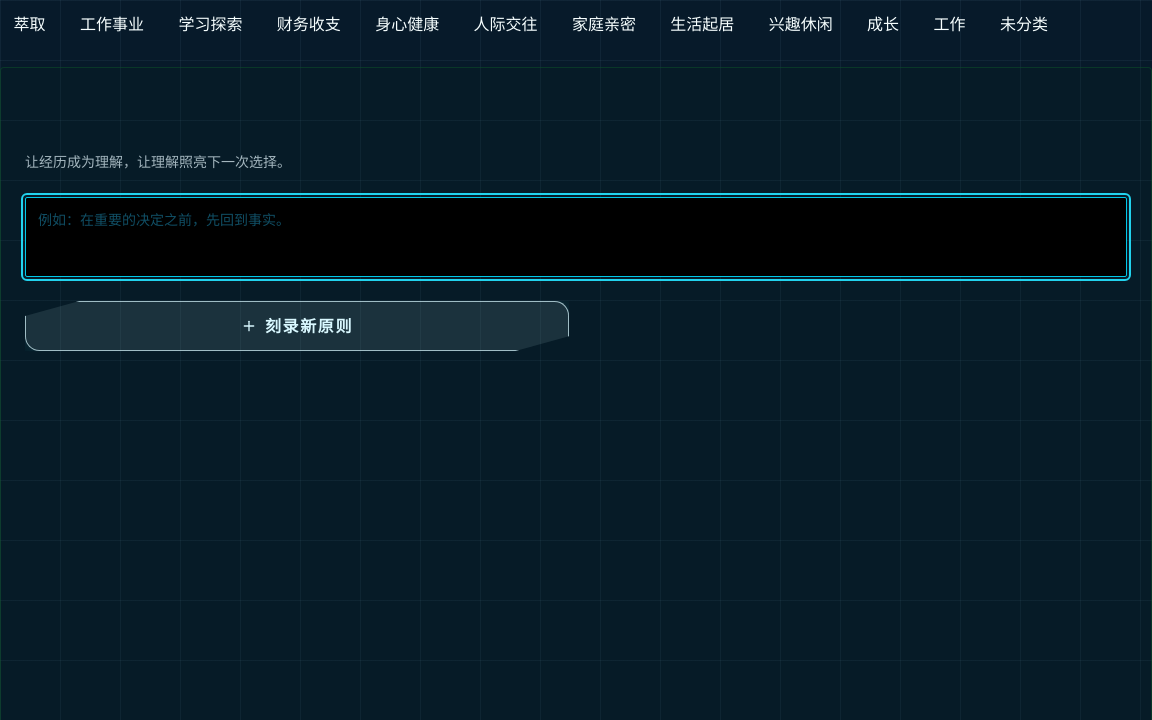
Test: ArchivePrinciplesView › filters principles by tag and keeps unclassified principles accessible
What coordinates should you click on to do the following:
click the button "成长"
I would click on:
 (883, 24)
Its box is left=854, top=2, right=913, bottom=46.
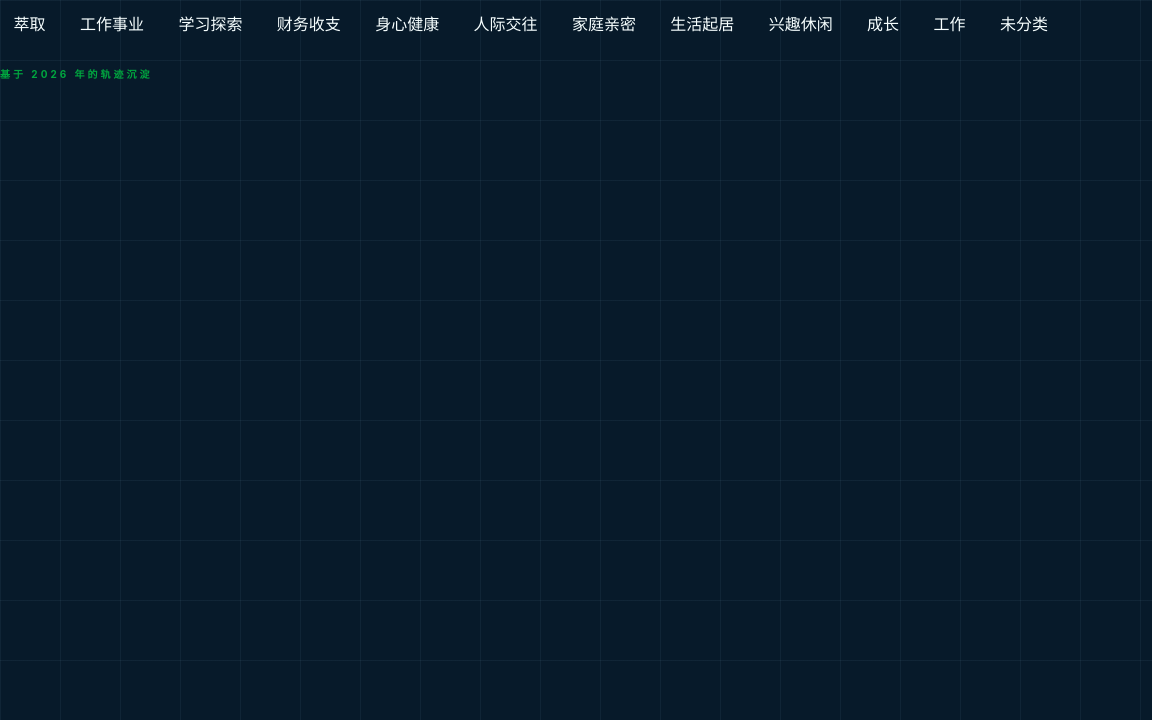
What coordinates should you click on to do the following:
click the button "未分类"
I would click on:
 (1024, 24)
Its box is left=986, top=2, right=1062, bottom=46.
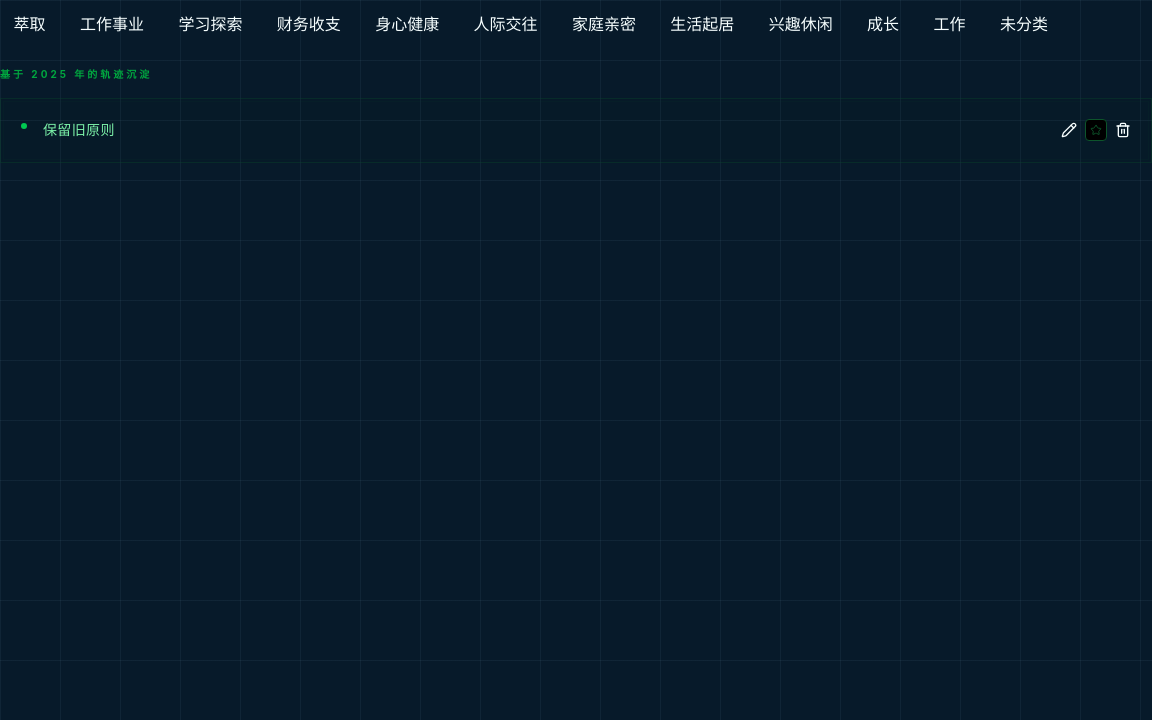
Result: the text "保留旧原则" is shown at left=43, top=119, right=115, bottom=142
